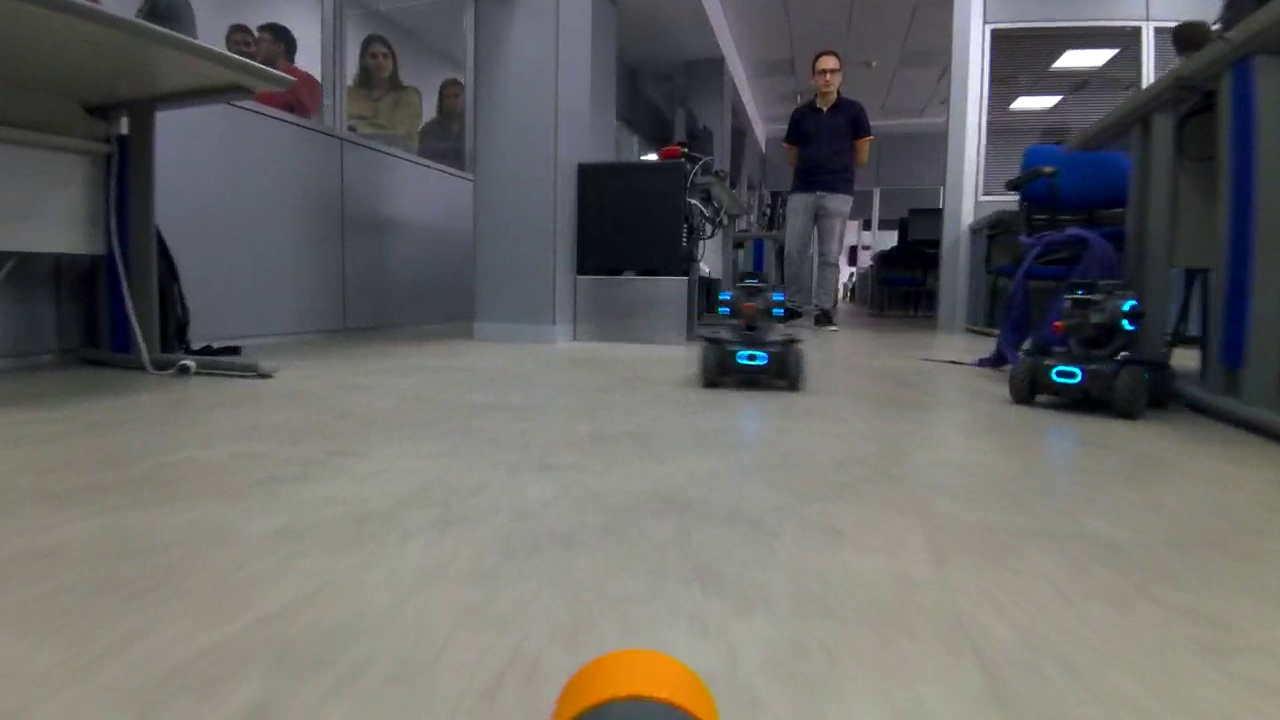robot: (1004, 279, 1202, 419), (696, 268, 822, 394)
